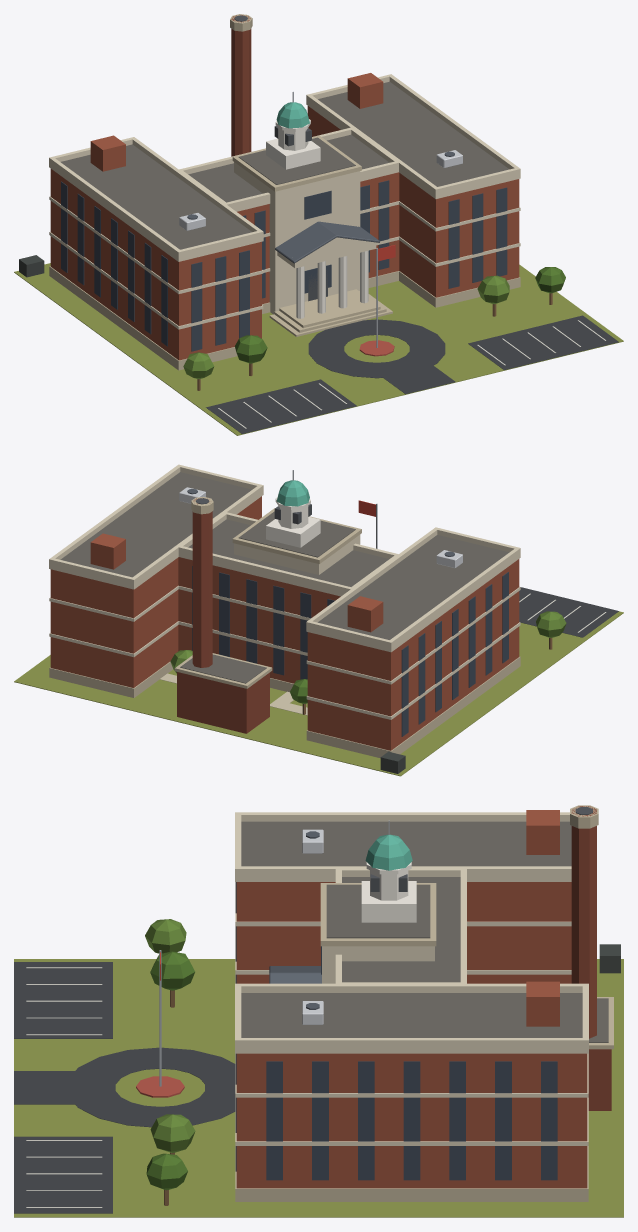
The model's file is countyhospital.glb.
3 renders of one model, top to bottom at view 1: azimuth 30°, elevation 25°; view 2: azimuth 150°, elevation 25°; view 3: azimuth 270°, elevation 25°, orthographic. The views are drawn at different scales.
Visible parts, largest first — view 1: countyhospital; view 2: countyhospital; view 3: countyhospital.
Part boxes in pixels (x1,y1,x2,y2): countyhospital: (14,14,623,435); countyhospital: (14,464,623,776); countyhospital: (14,805,623,1217).
Bounding box in the file's own units: 40 × 21.05 × 40.
